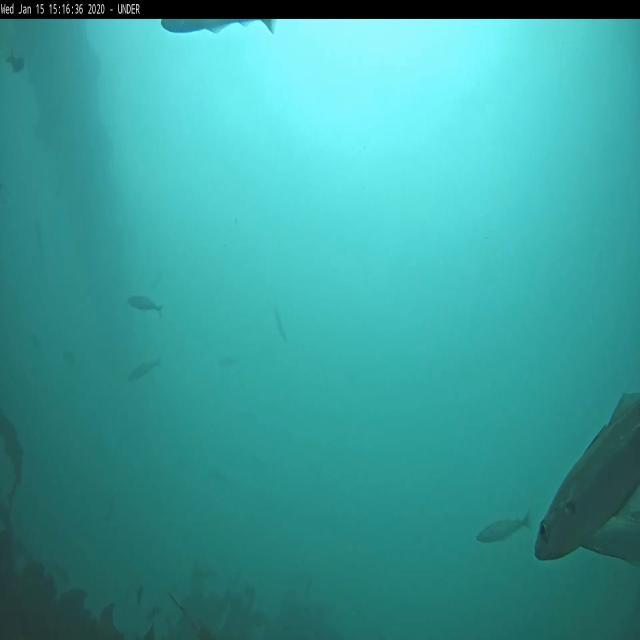fish: (534, 390, 639, 562), (579, 508, 640, 568), (160, 20, 276, 37), (475, 512, 530, 542), (127, 294, 163, 316), (128, 356, 158, 379), (274, 307, 289, 344), (7, 47, 25, 76), (217, 359, 240, 366)
